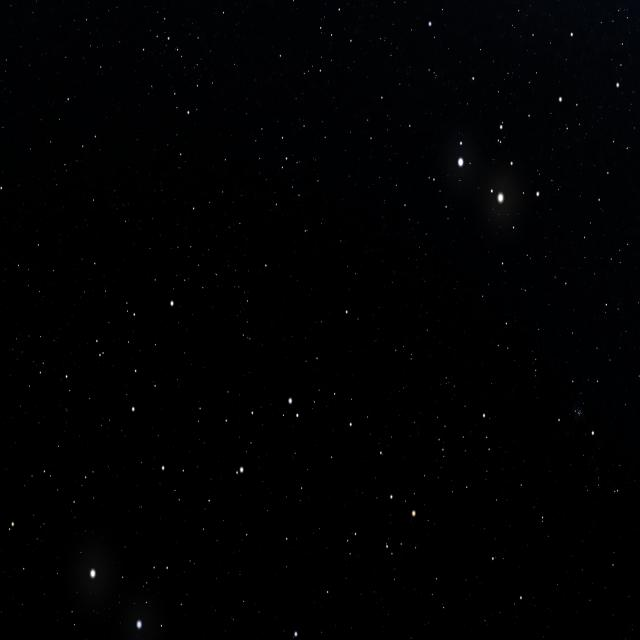Lynx: (154, 30, 430, 532)
